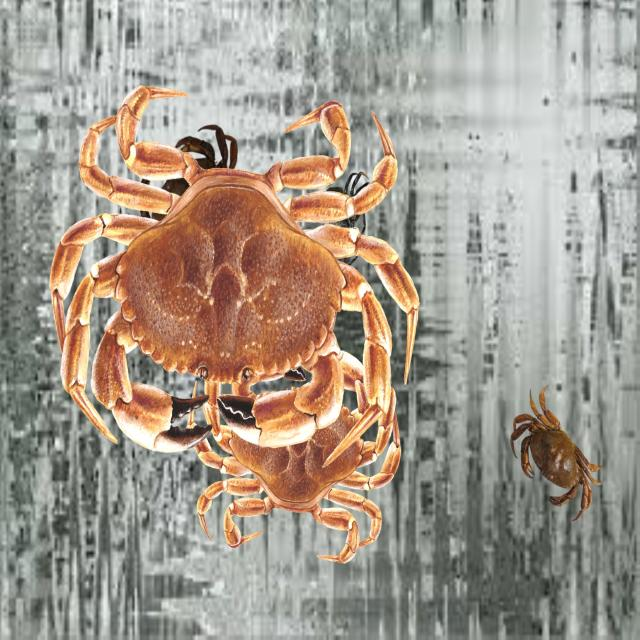European_Green_Crab: (310, 161, 374, 276)
